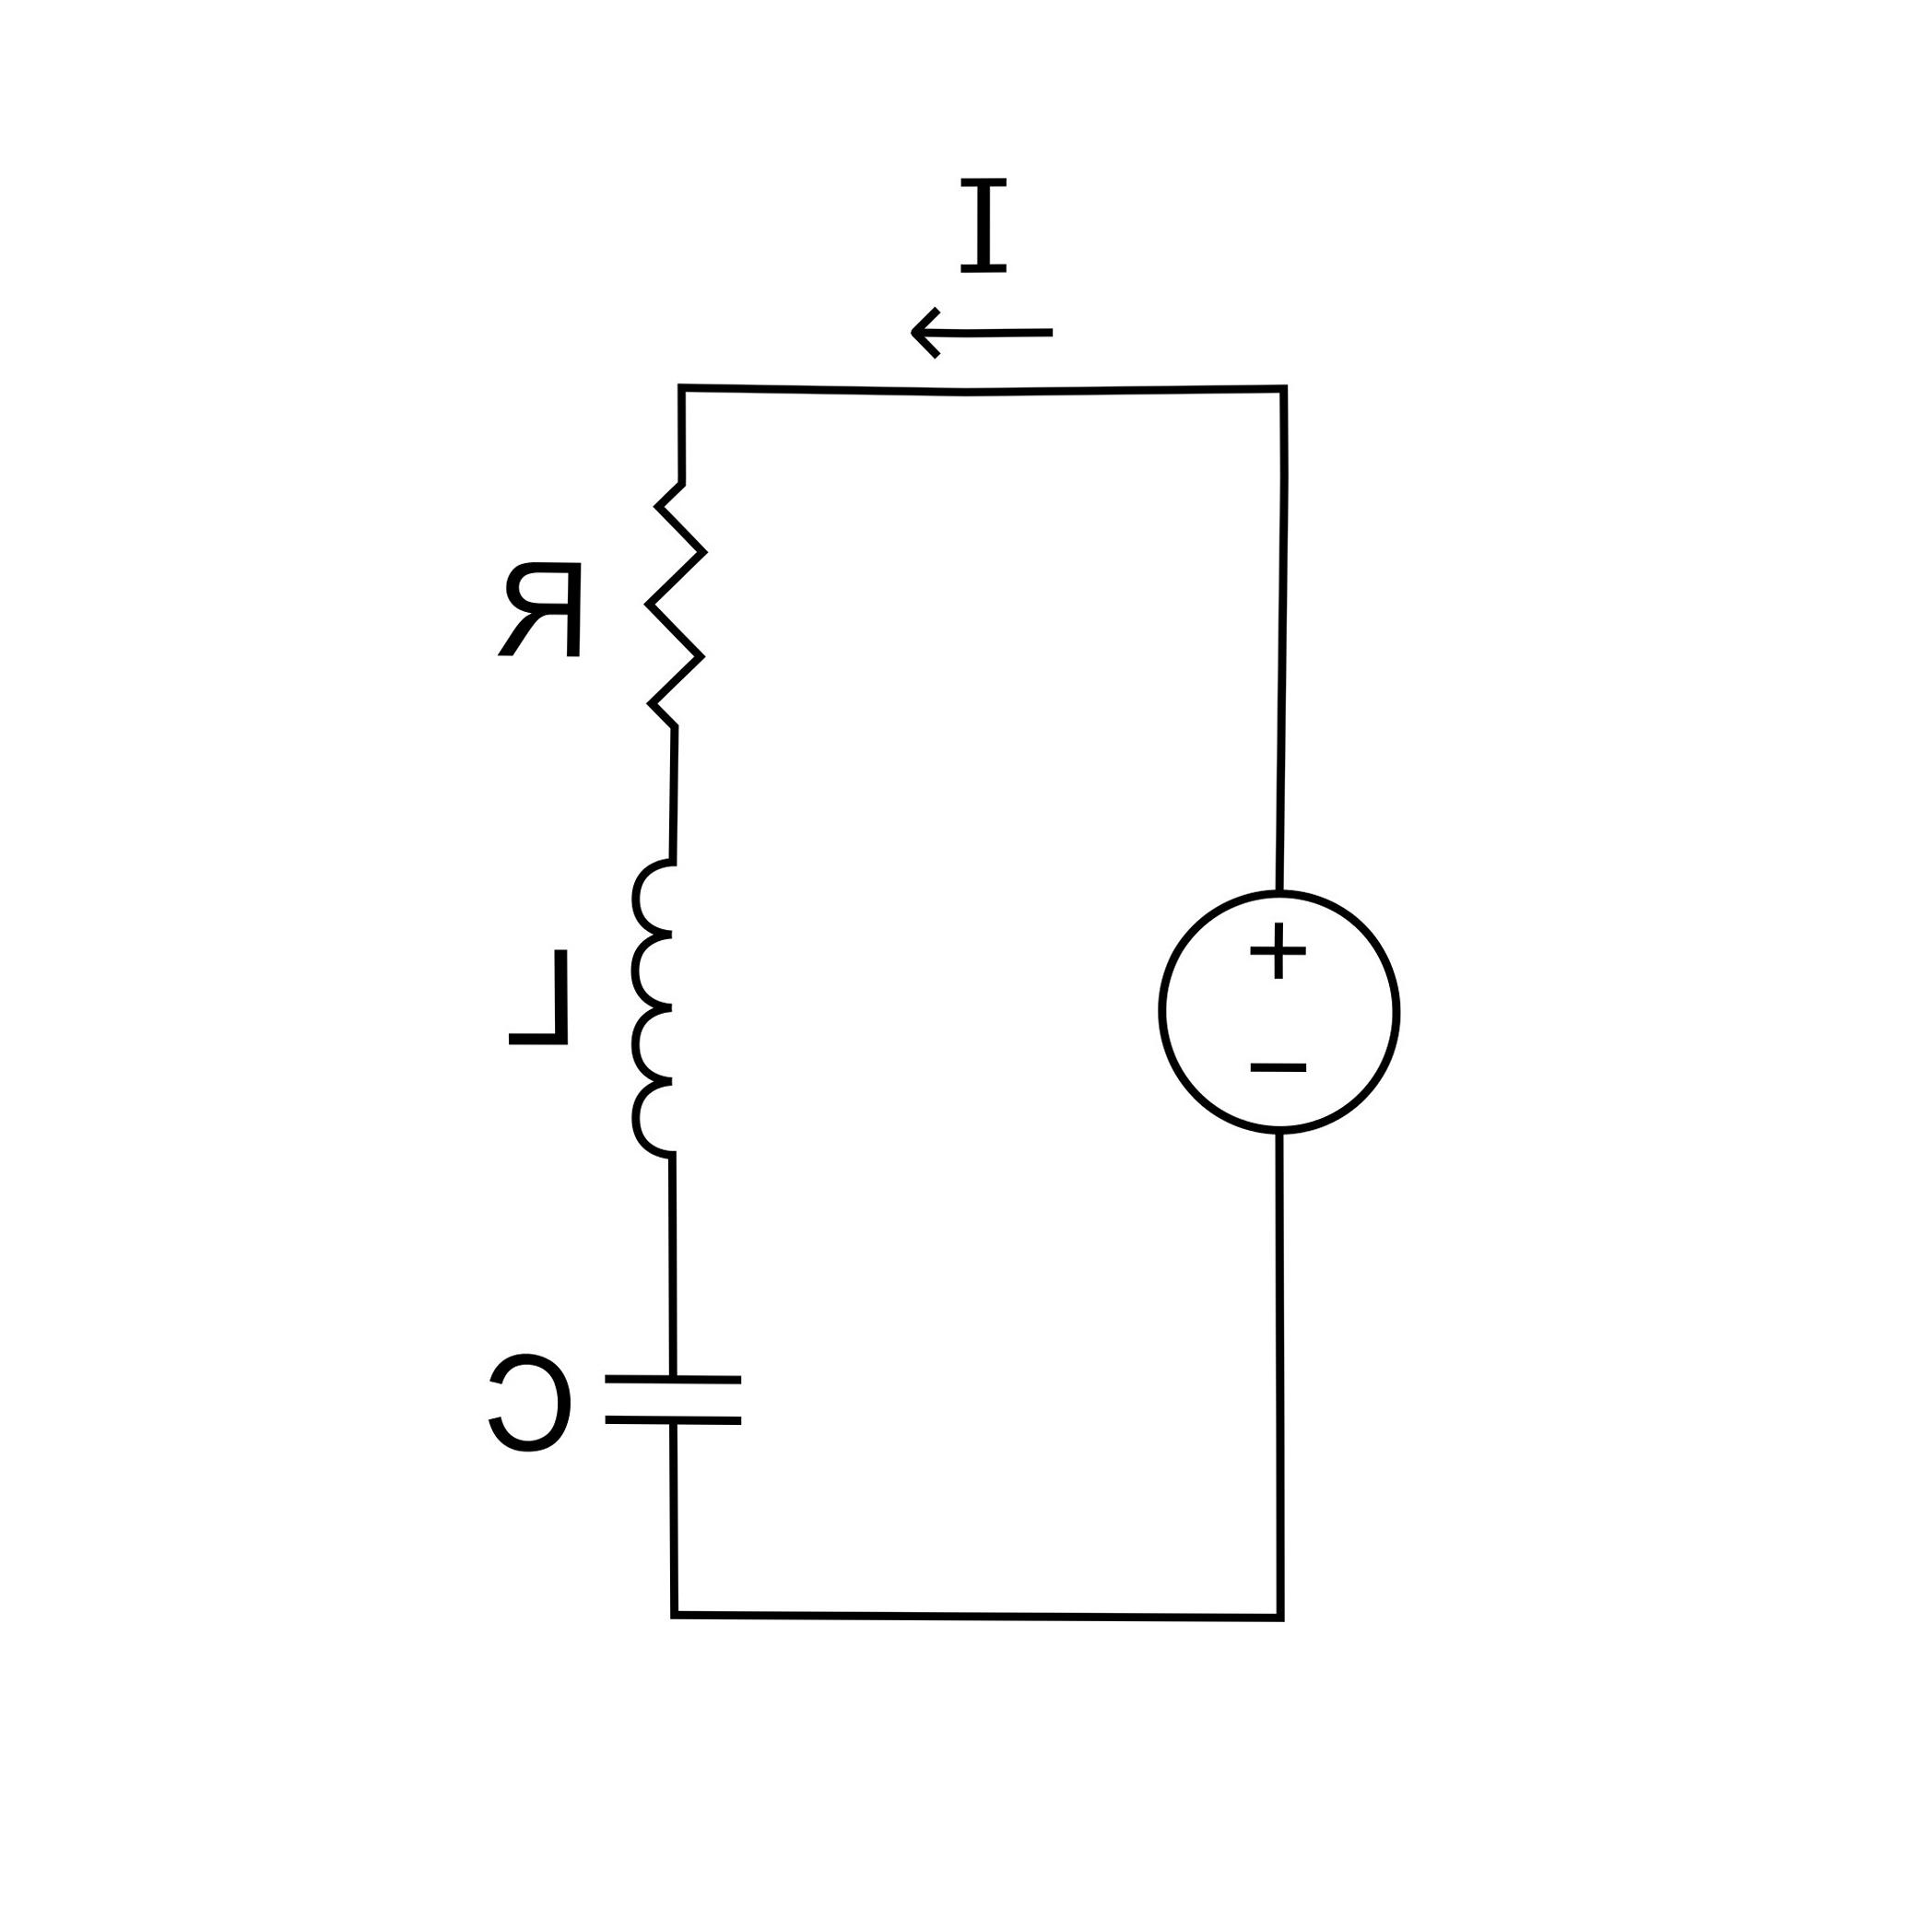Battery: (1105, 862, 1440, 1168)
